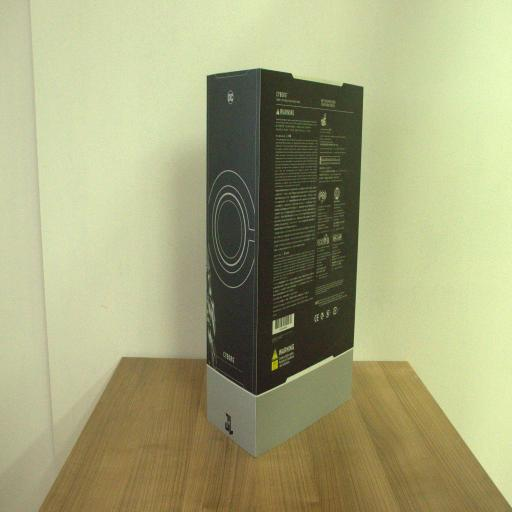Cyborg: (207, 68, 364, 461)
